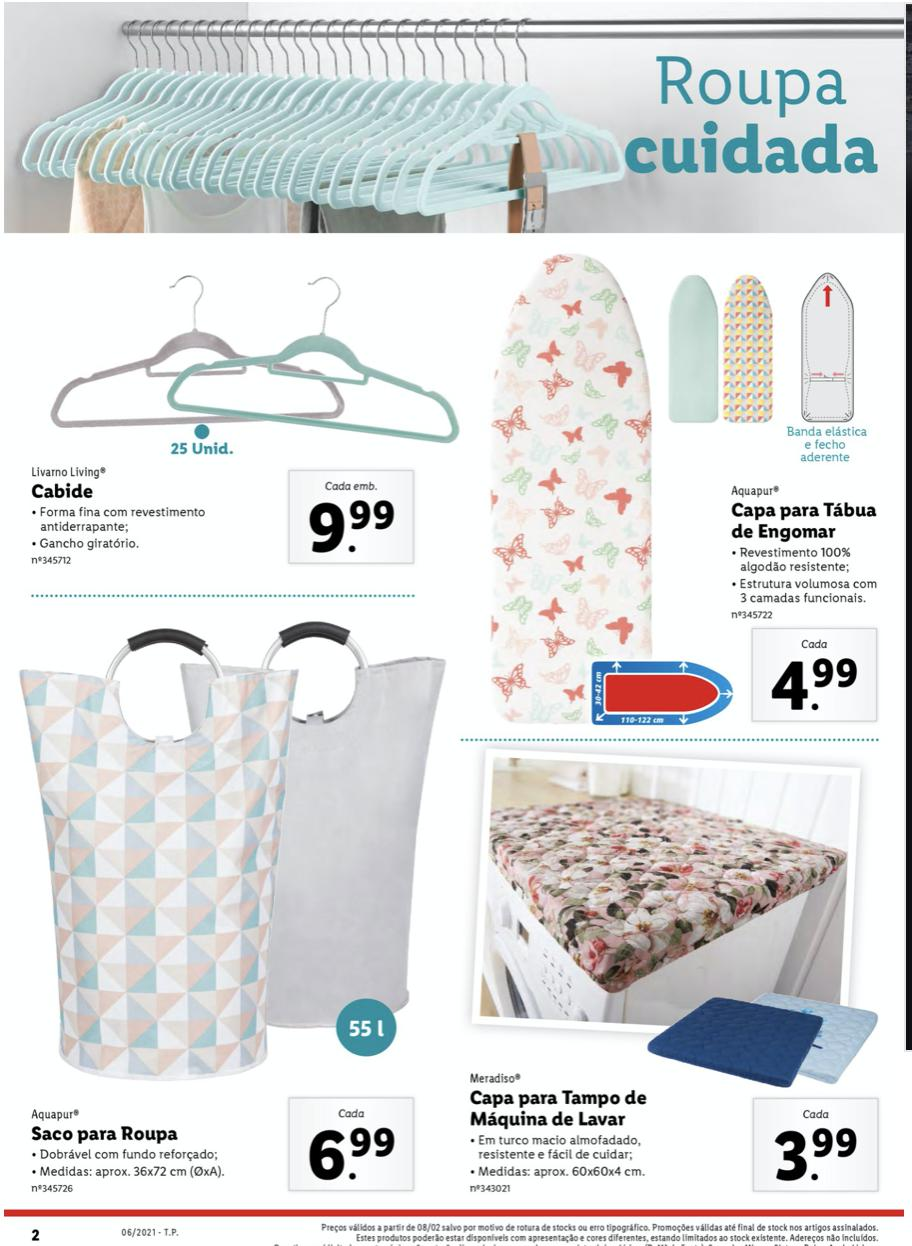name: (465, 1085, 653, 1131), (724, 498, 882, 542), (28, 1119, 180, 1148), (27, 478, 104, 504)
price: (768, 1122, 864, 1185), (305, 1122, 400, 1185), (765, 654, 859, 716), (302, 498, 397, 554)
product: (7, 611, 440, 1204), (482, 242, 900, 728), (454, 754, 893, 1201), (16, 239, 480, 565)
